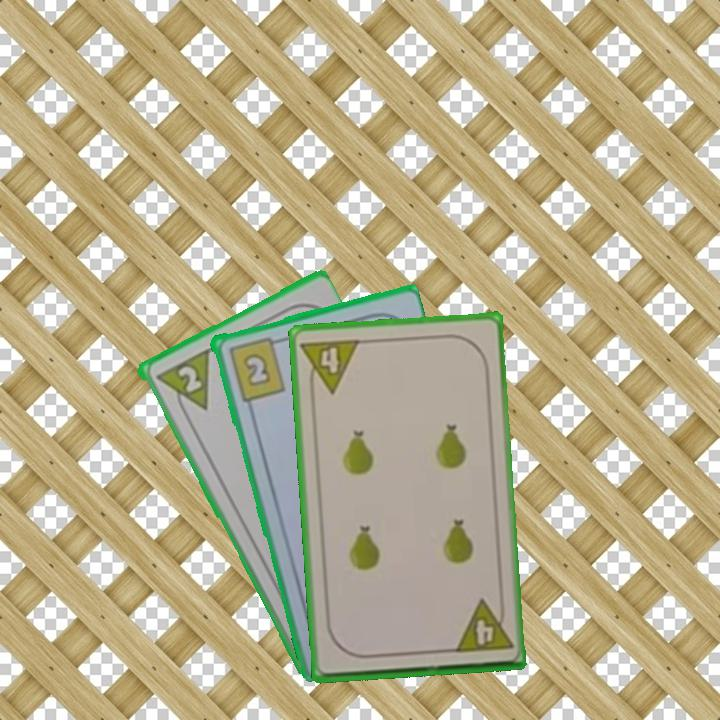2b: (224, 333, 288, 404)
2p: (152, 346, 212, 422)
4p: (297, 335, 363, 397), (450, 596, 515, 656)
